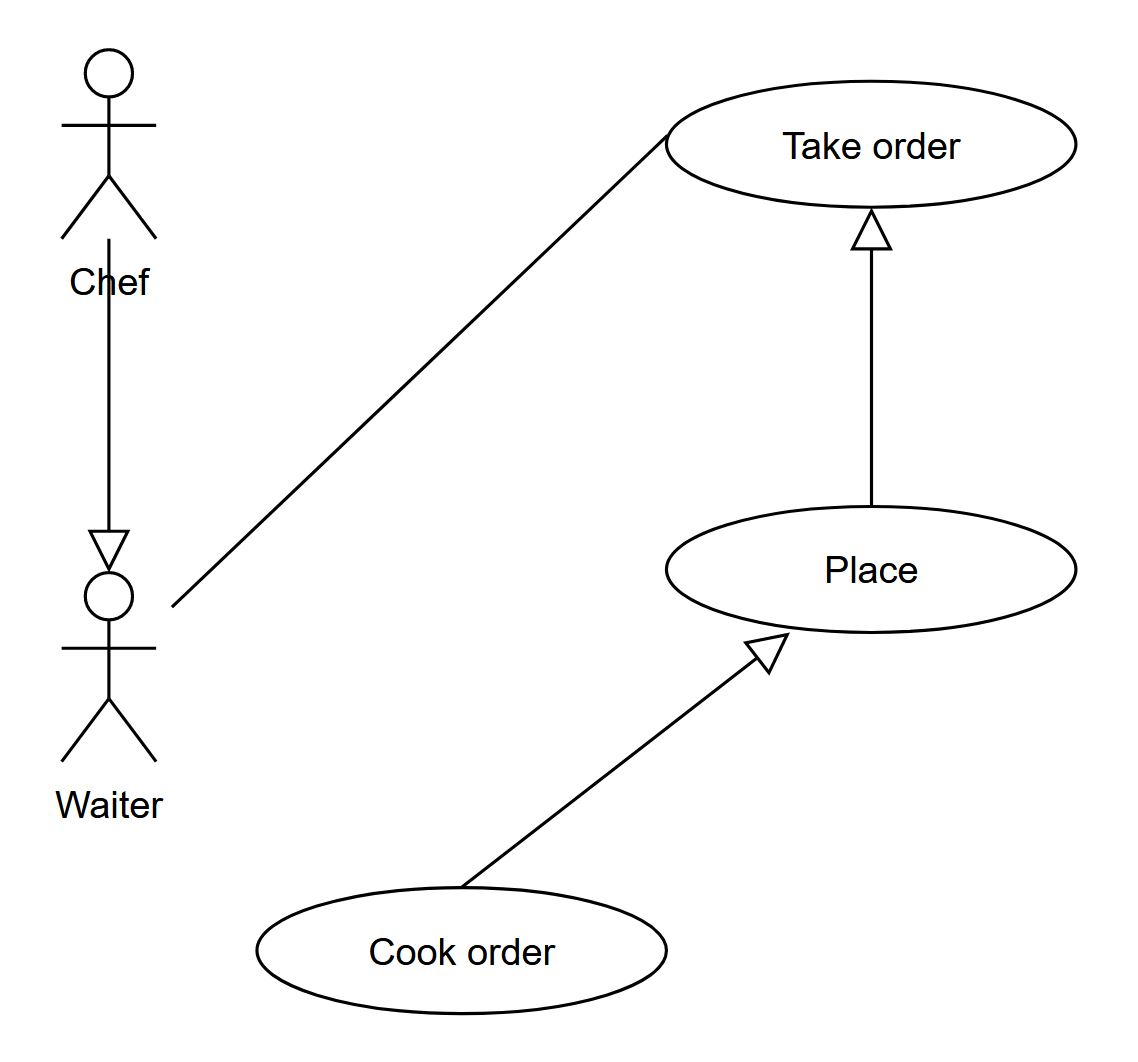actor: (54, 46, 168, 242), (56, 572, 168, 771)
association: (169, 135, 667, 614)
generalization: (462, 631, 792, 884), (85, 239, 135, 572), (845, 206, 896, 503)
text: (765, 118, 976, 171), (360, 930, 561, 978), (804, 542, 938, 589), (50, 788, 191, 830), (69, 263, 155, 297)
use_case: (662, 501, 1078, 638), (255, 885, 669, 1016), (667, 80, 1077, 208)
